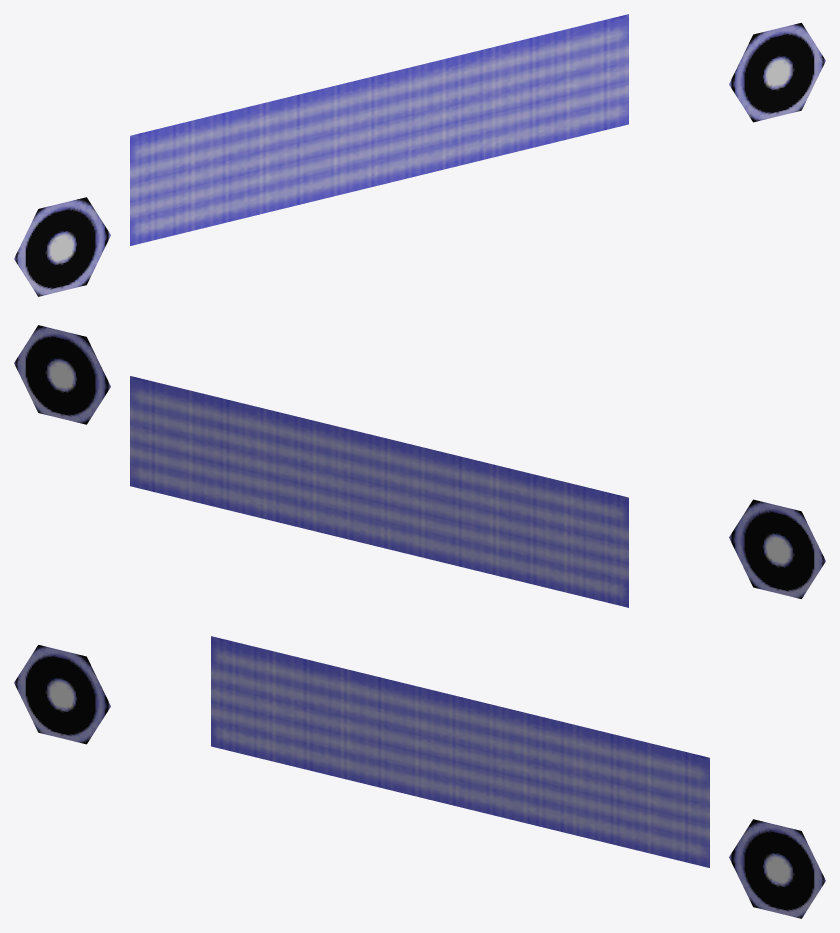
File: yt1300_engine_s02_on_l3.fbx
3 views of the same model, one above another, from view 1: azimuth 30°, elevation 25°; view 2: azimuth 150°, elevation 25°; view 3: azimuth 330°, elevation 25° (orthographic).
Parts seen in each view (by area): view 1: mesh_node; view 2: mesh_node; view 3: mesh_node.
Boxes of the visible parts, x1=… form: mesh_node: x1=14, y1=14, x2=825, y2=296; mesh_node: x1=14, y1=325, x2=825, y2=607; mesh_node: x1=14, y1=636, x2=825, y2=918.
Bounding box in the file's own units: 10.68 × 1.39 × 0.9238.
1 material, 1 textured.
